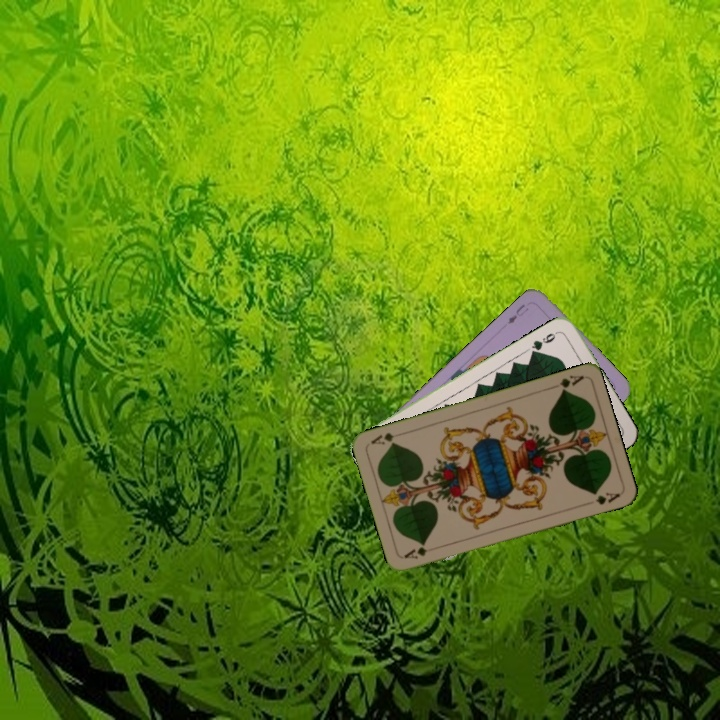EU: (503, 300, 531, 327)
G9: (527, 327, 562, 357)
GA: (546, 371, 586, 395), (400, 543, 430, 562)
